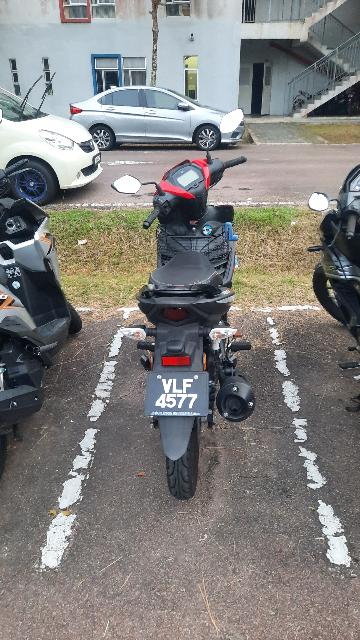License_Plate: (144, 369, 211, 419)
motorcycle: (109, 108, 262, 500)
